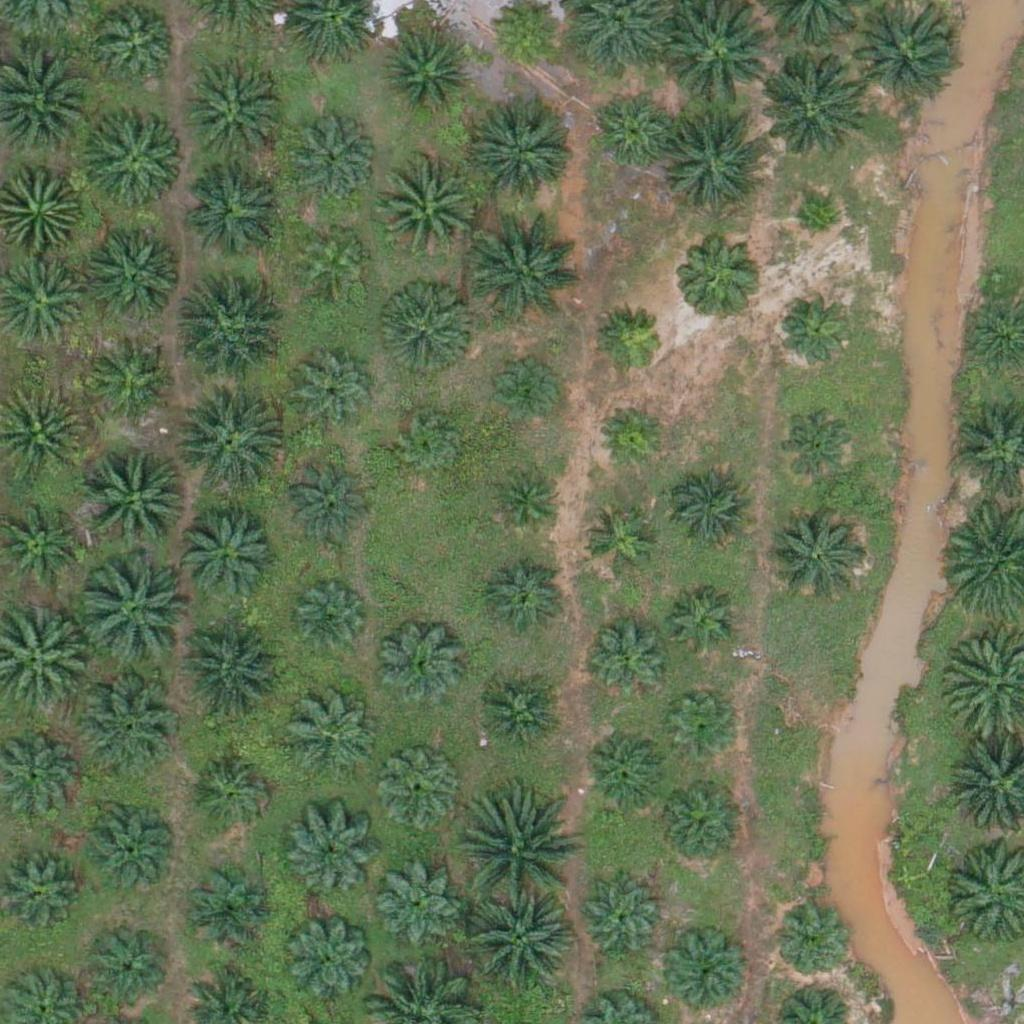Kelapa_Sawit: (463, 797, 576, 910), (168, 622, 281, 735), (77, 559, 190, 672), (751, 52, 864, 165), (83, 444, 195, 558), (461, 890, 573, 1003), (169, 273, 281, 386), (170, 387, 282, 500), (471, 213, 583, 326), (663, 104, 775, 217), (766, 507, 866, 608), (177, 509, 277, 610), (74, 676, 174, 777), (85, 228, 185, 329), (84, 104, 184, 205), (186, 68, 286, 169), (184, 159, 284, 260), (376, 159, 476, 260), (473, 98, 573, 199), (377, 278, 477, 378), (583, 613, 671, 702), (775, 401, 863, 490), (481, 557, 569, 645), (469, 673, 557, 761), (653, 780, 741, 868), (285, 816, 373, 904), (285, 917, 373, 1005), (85, 802, 173, 890), (186, 748, 274, 836), (375, 749, 463, 837), (590, 90, 678, 178), (91, 329, 179, 417), (284, 462, 372, 550), (291, 344, 379, 432), (675, 227, 763, 315), (669, 466, 757, 554), (582, 728, 669, 816), (575, 876, 662, 964), (664, 933, 751, 1021), (83, 927, 170, 1015), (182, 861, 269, 949), (377, 620, 464, 708), (374, 862, 461, 950), (288, 693, 375, 781), (96, 4, 183, 92), (289, 111, 376, 199), (383, 31, 470, 119), (773, 283, 860, 371), (292, 583, 367, 659), (490, 354, 565, 430), (665, 693, 740, 769), (774, 906, 849, 982), (488, 466, 563, 542), (595, 304, 670, 379), (296, 225, 371, 300), (580, 504, 655, 579), (394, 409, 469, 484), (668, 588, 743, 663), (595, 400, 670, 475), (792, 198, 842, 248)
